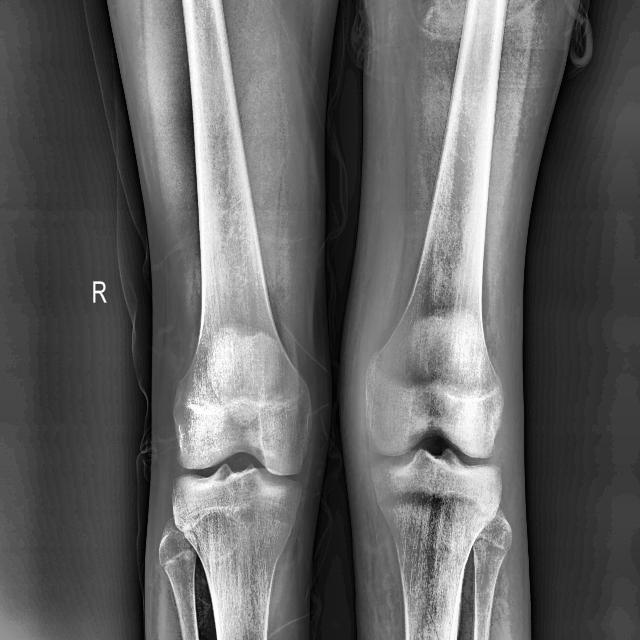Not_Fracture: (108, 0, 587, 640)
